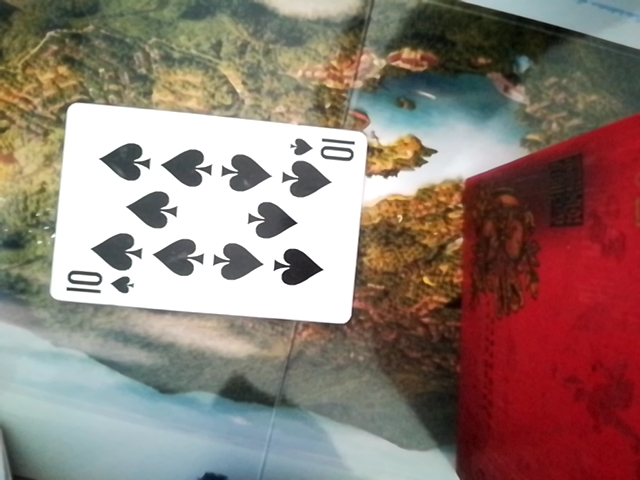ht 10: (39, 103, 368, 325)
